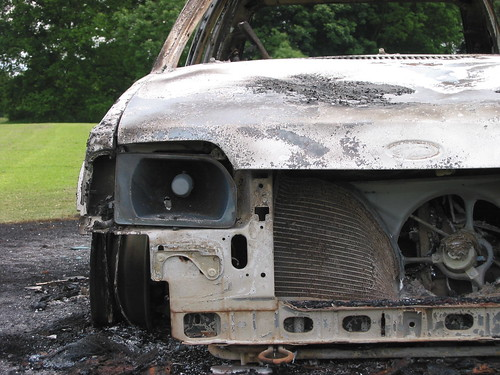car: (75, 1, 500, 369)
